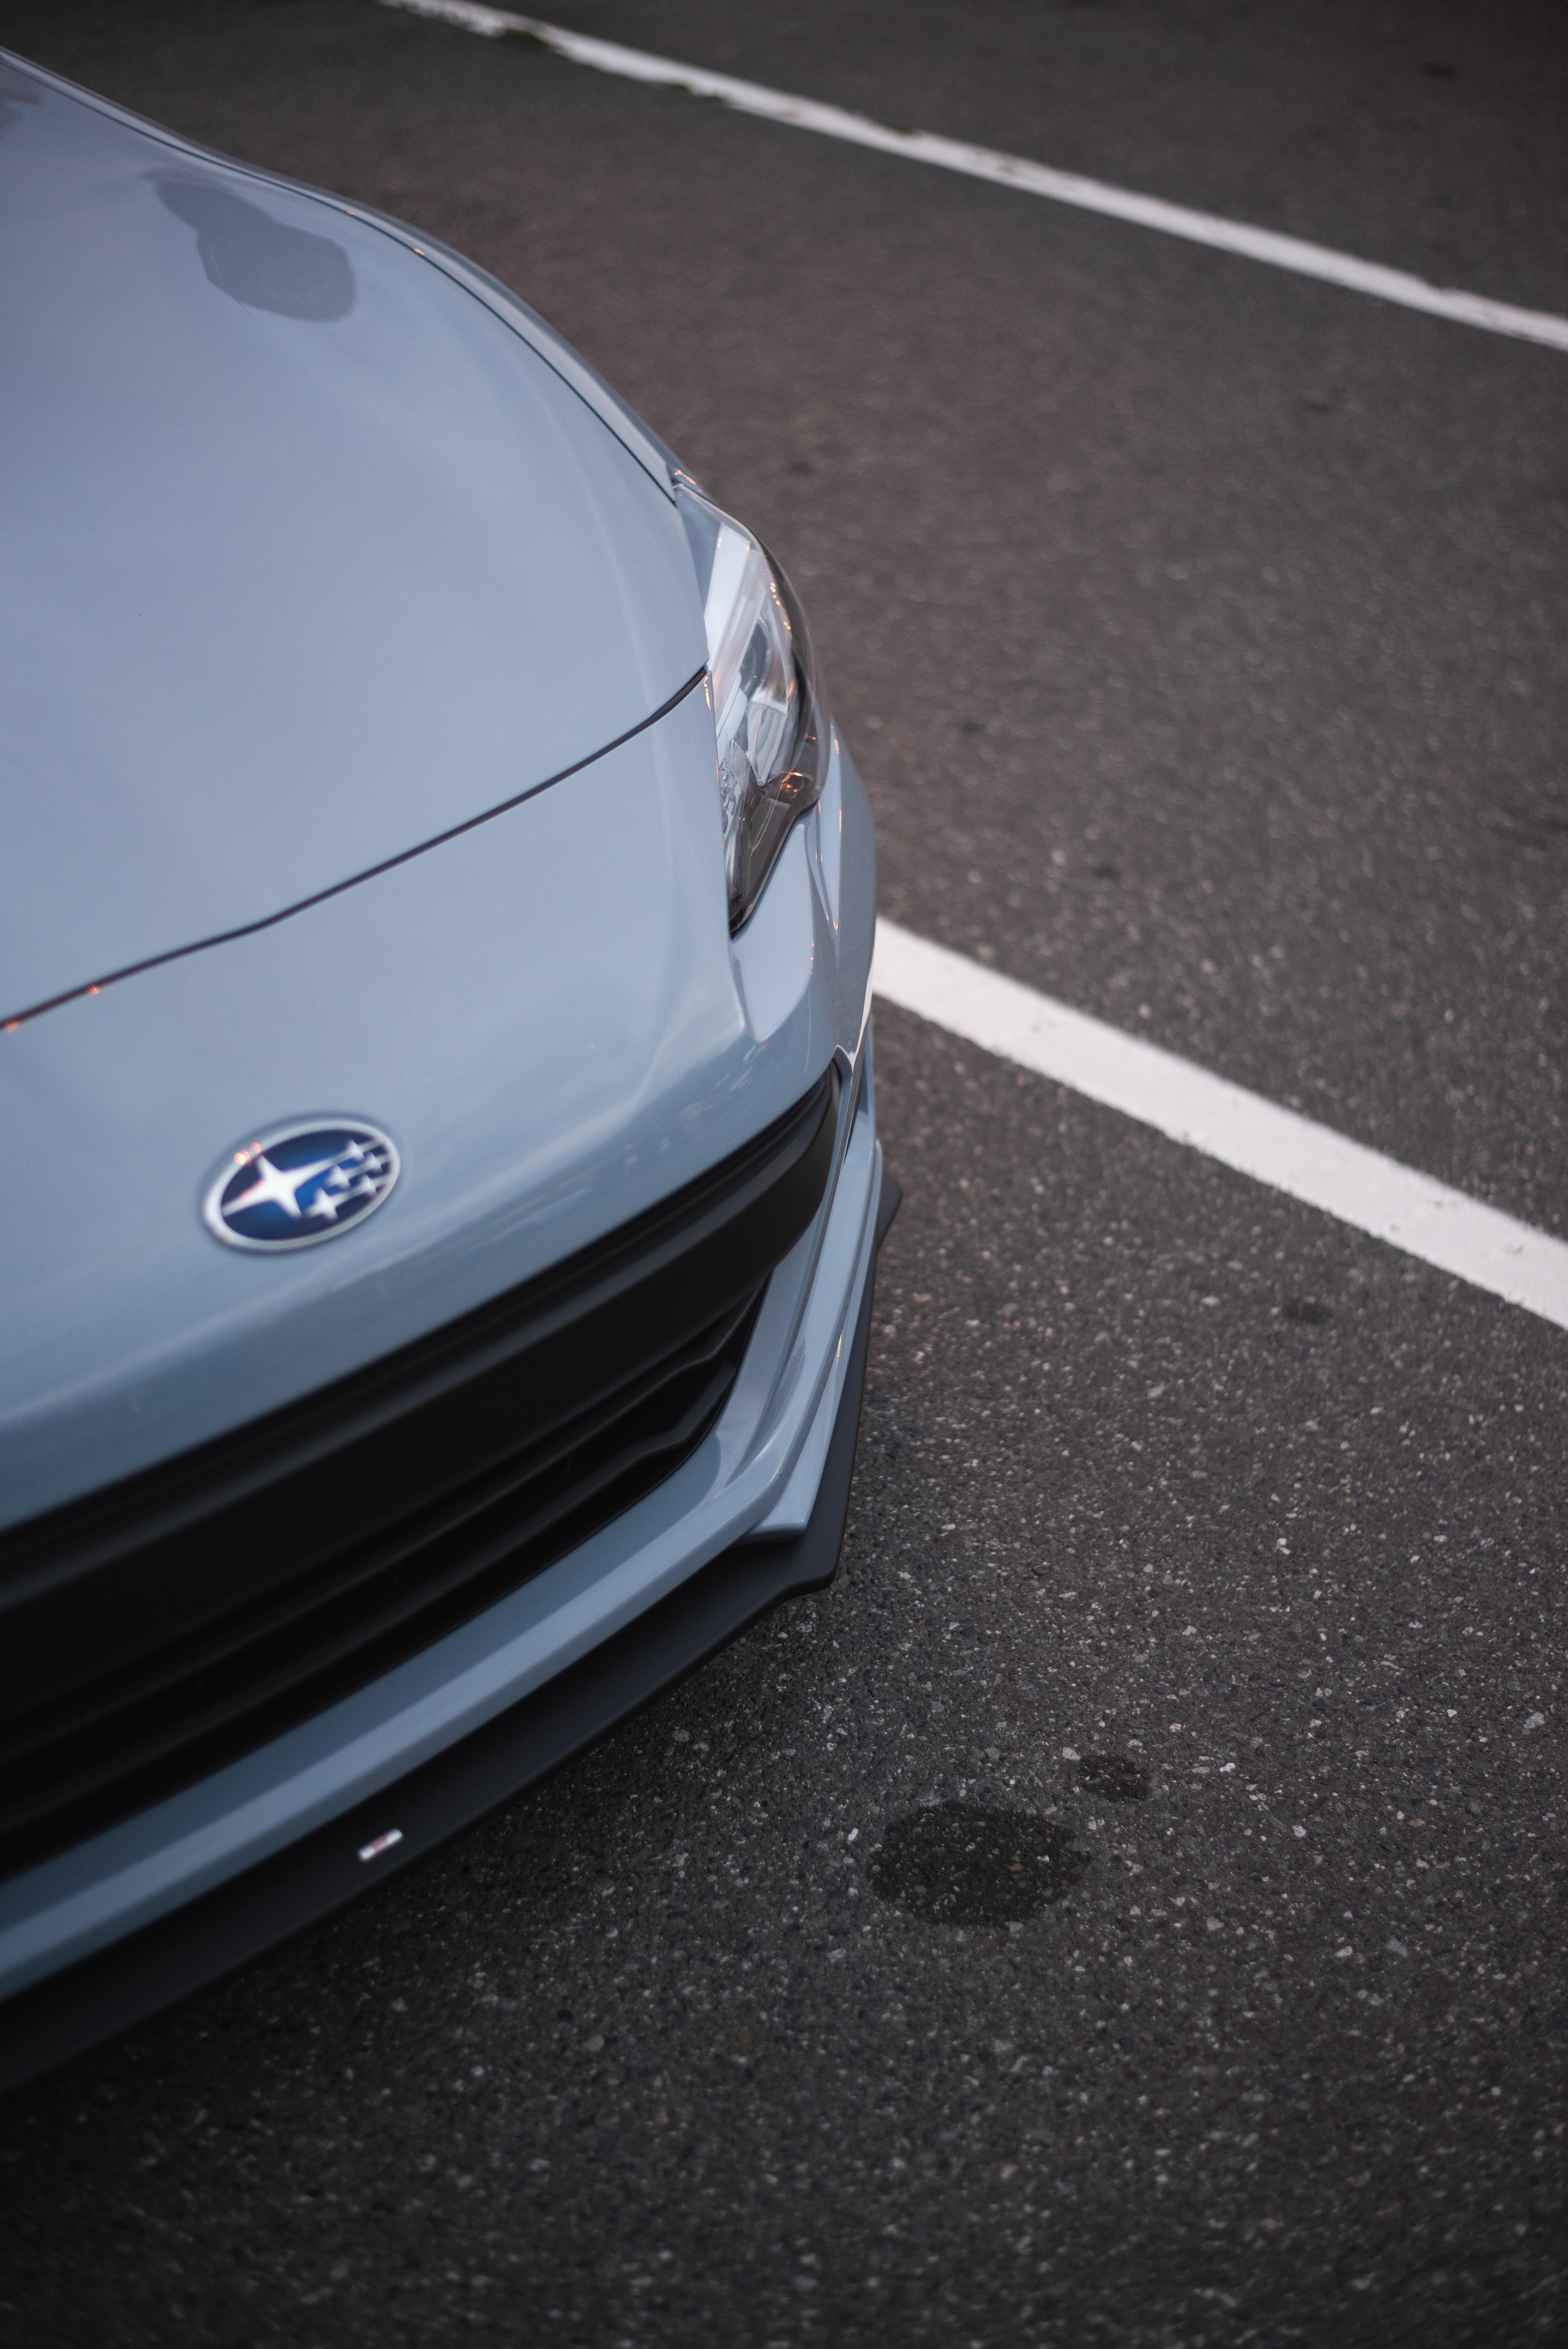subaru: (163, 1062, 437, 1332)
